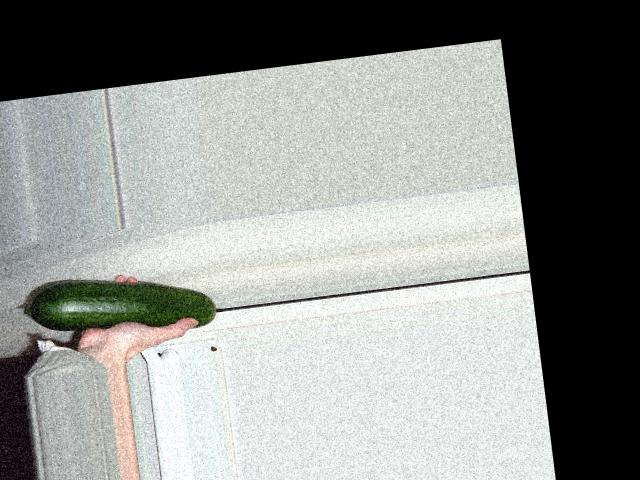cucumber: (20, 261, 218, 347)
